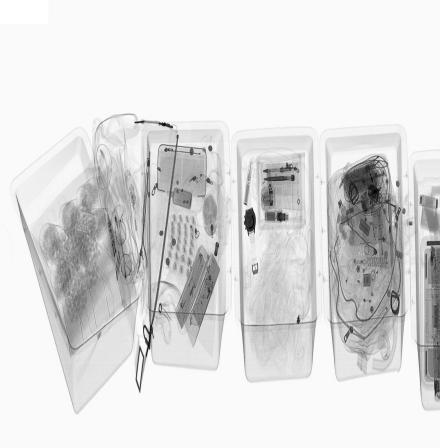Lighter: (377, 193, 382, 224)
